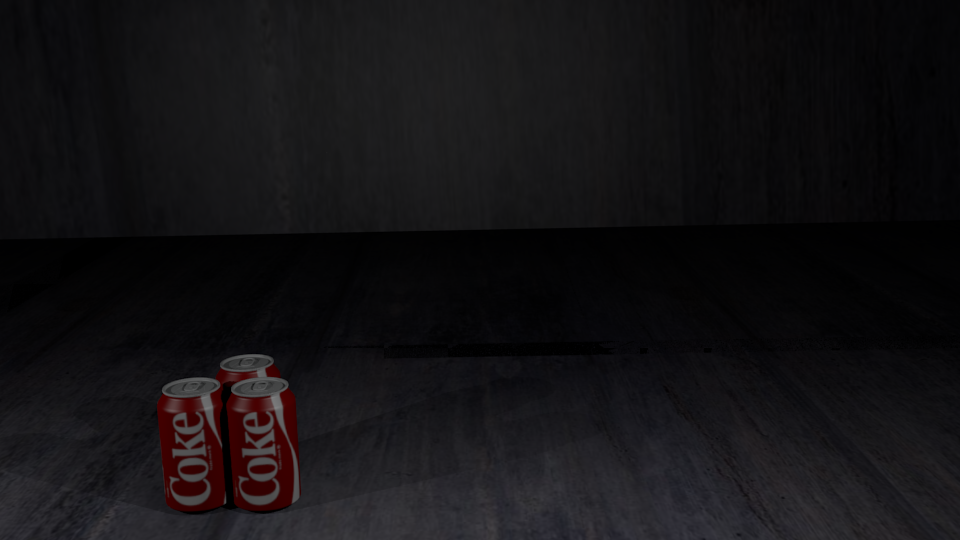cola_can: (157, 378, 229, 508), (226, 377, 298, 506), (216, 355, 279, 476)
